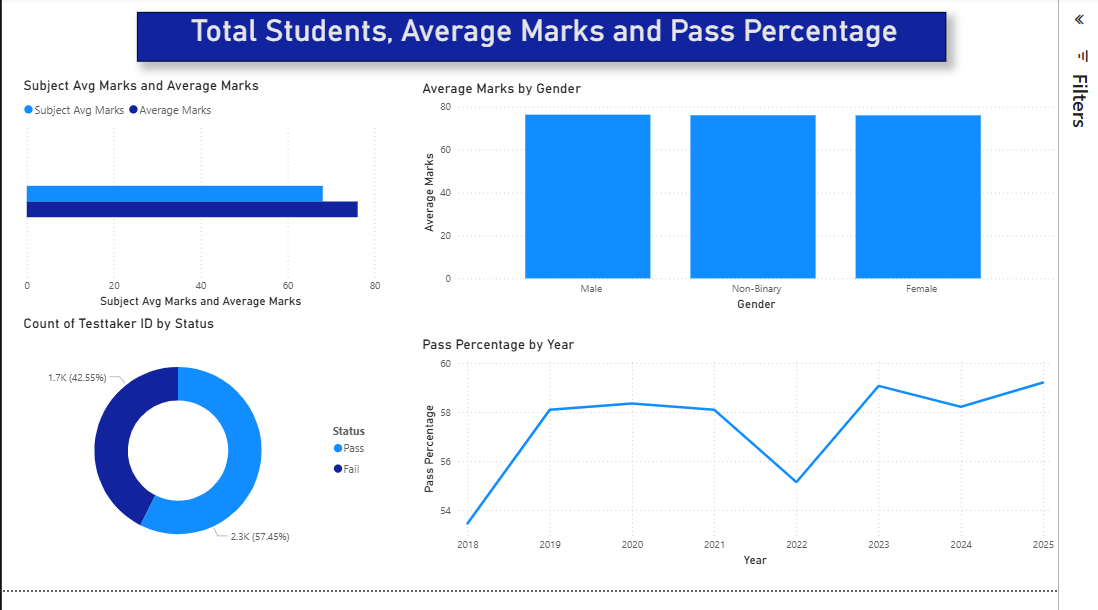

What the dashboard file says about the page in this screenshot:
{"tool":"powerbi","page":{"name":"Page 1","canvas":[1280,720],"ordinal":0},"visuals":[{"type":"clusteredBarChart","fields":{"Y":["McKinsey Solve Dataset.Subject Avg Marks","McKinsey Solve Dataset.Average Marks"]},"box":[21.9,97.7,442.6,285.1],"z":0},{"type":"kpi","fields":{"Indicator":["McKinsey Solve Dataset.Total Students"],"Goal":["McKinsey Solve Dataset.Average Marks","McKinsey Solve Dataset.Pass Percentage"]},"box":[163.5,17.9,980.9,59.8],"z":1},{"type":"donutChart","fields":{"Category":["McKinsey Solve Dataset.Status"],"Y":["CountNonNull(McKinsey Solve Dataset.Testtaker ID)"]},"box":[21.9,384.8,442.6,311],"z":2},{"type":"lineChart","fields":{"Category":["McKinsey Solve Dataset.Year"],"Y":["McKinsey Solve Dataset.Pass Percentage"]},"box":[504.4,410.7,775.6,285.1],"z":4},{"type":"clusteredColumnChart","fields":{"Category":["McKinsey Solve Dataset.Gender"],"Y":["McKinsey Solve Dataset.Average Marks"]},"box":[504.4,99.7,775.6,285.1],"z":5}]}

Visuals, with their boxes on the page's 1280x720 design canvas (x1, y1, x2, y2). These are canvas units, not pixel positions in the 1098x610 screenshot, which may show the page scaled, cropped or inside an application window:
clusteredBarChart - McKinsey Solve Dataset.Subject Avg Marks x McKinsey Solve Dataset.Average Marks: [left=22, top=98, right=464, bottom=383]
kpi - McKinsey Solve Dataset.Total Students x McKinsey Solve Dataset.Average Marks: [left=164, top=18, right=1144, bottom=78]
donutChart - McKinsey Solve Dataset.Status x CountNonNull(McKinsey Solve Dataset.Testtaker ID): [left=22, top=385, right=464, bottom=696]
lineChart - McKinsey Solve Dataset.Year x McKinsey Solve Dataset.Pass Percentage: [left=504, top=411, right=1280, bottom=696]
clusteredColumnChart - McKinsey Solve Dataset.Gender x McKinsey Solve Dataset.Average Marks: [left=504, top=100, right=1280, bottom=385]
